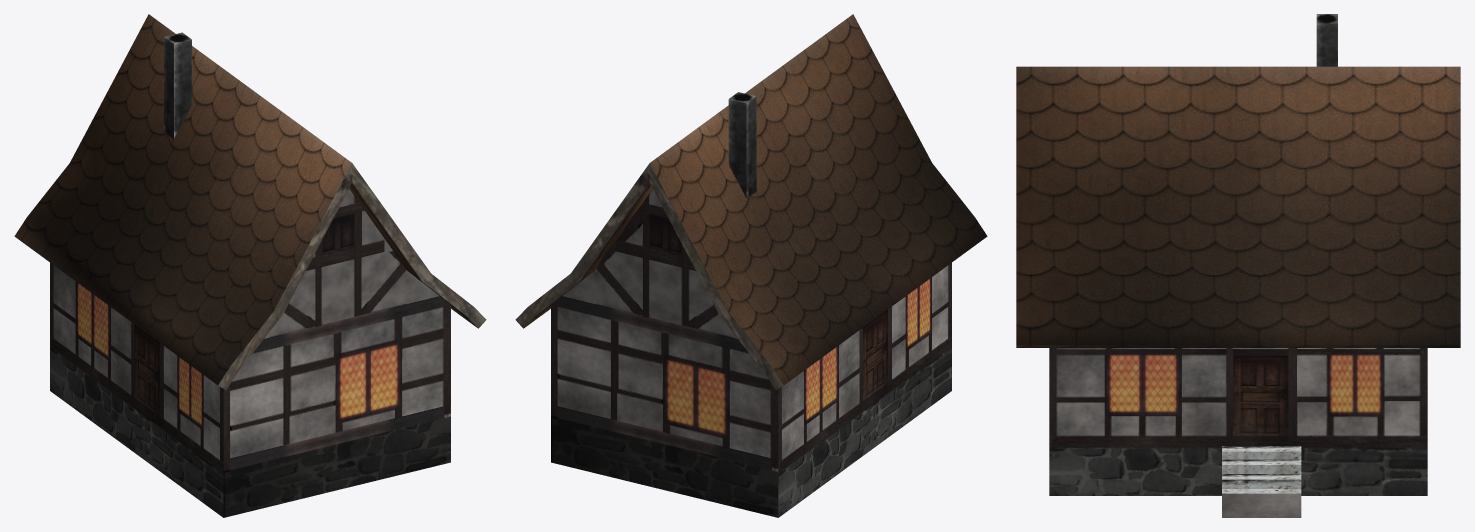
Rendered from house_02_highres_umbakarna.dae.
3 views of the same model, side by side, from view 1: azimuth 30°, elevation 25°; view 2: azimuth 150°, elevation 25°; view 3: azimuth 270°, elevation 25° (orthographic). The views are drawn at different scales.
Visible parts, largest first — view 1: Box02; view 2: Box02; view 3: Box02.
Part boxes in pixels (x1=…): Box02: x1=14, y1=14, x2=486, y2=517; Box02: x1=515, y1=14, x2=987, y2=517; Box02: x1=1016, y1=14, x2=1460, y2=517.
Size of the model in its own units: 7.31 by 8.89 by 8.83.
1 material, 1 textured.
